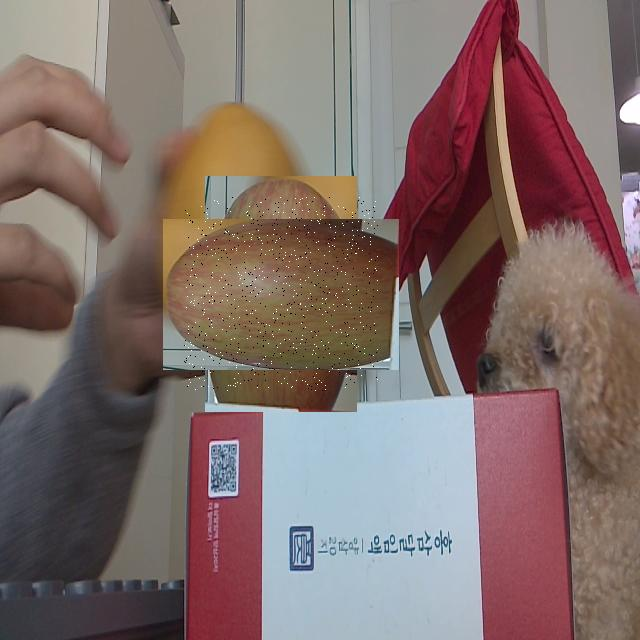apple: (184, 197, 378, 391)
